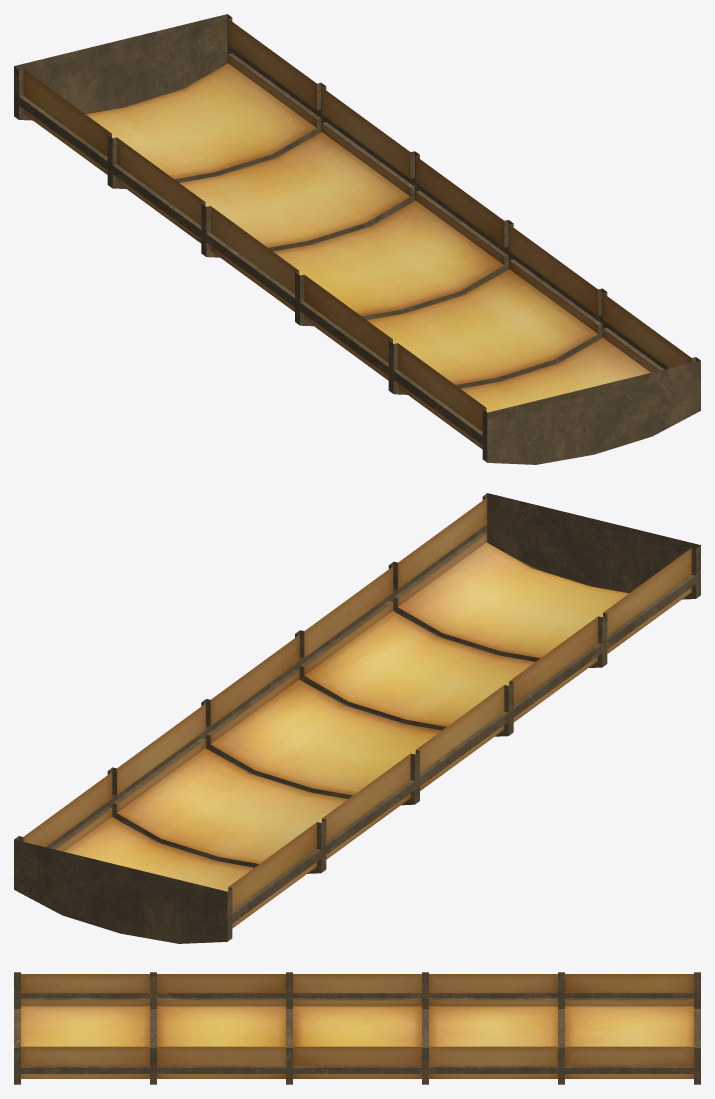
Rendered from p6_light_karma_column_short_LOD0.obj.
The picture shows the model from 3 angles, top to bottom: view 1: azimuth 30°, elevation 25°; view 2: azimuth 150°, elevation 25°; view 3: azimuth 270°, elevation 25°; orthographic projection. The views are drawn at different scales.
Parts seen in each view (by area): view 1: light_rice_paper_orange, dub_gold_shiny_01; view 2: light_rice_paper_orange, dub_gold_shiny_01; view 3: light_rice_paper_orange, dub_gold_shiny_01.
Part boxes in pixels (x1=…): light_rice_paper_orange: x1=23, y1=19, x2=691, y2=449; dub_gold_shiny_01: x1=14, y1=14, x2=700, y2=464; light_rice_paper_orange: x1=23, y1=498, x2=691, y2=928; dub_gold_shiny_01: x1=14, y1=493, x2=700, y2=943; light_rice_paper_orange: x1=21, y1=974, x2=693, y2=1078; dub_gold_shiny_01: x1=14, y1=972, x2=700, y2=1084.
Bounding box in the file's own units: 63.5 × 19.34 × 244.
